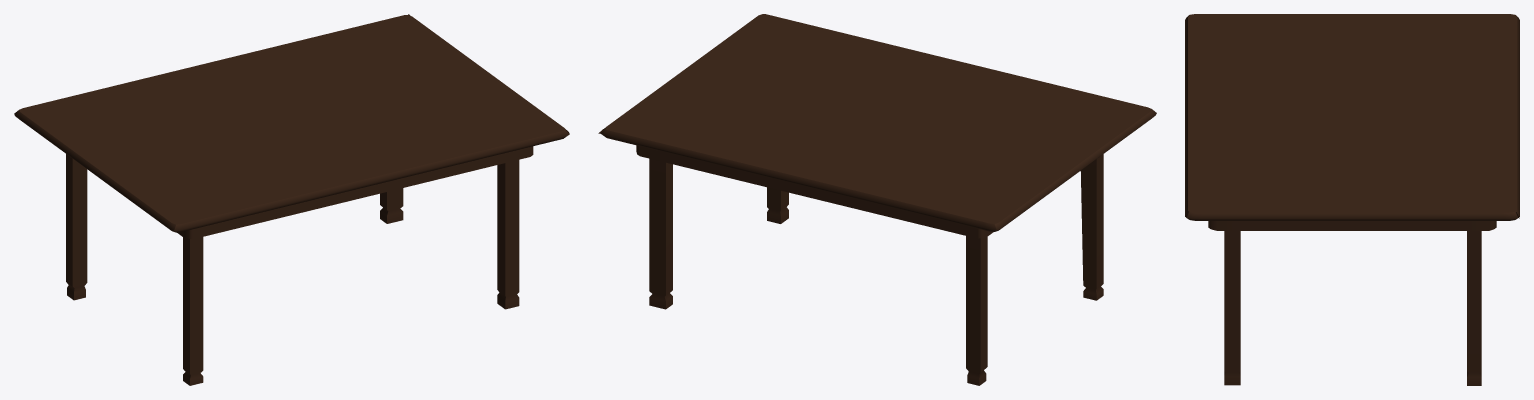
The model's file is diningTable.fbx.
3 views of the same model, side by side, from view 1: azimuth 30°, elevation 25°; view 2: azimuth 150°, elevation 25°; view 3: azimuth 270°, elevation 25° (orthographic). The views are drawn at different scales.
Visible parts, largest first — view 1: pCube1; view 2: pCube1; view 3: pCube1.
Part boxes in pixels (x1,y1,x2,y2): pCube1: (14,14,569,385); pCube1: (598,14,1156,385); pCube1: (1185,14,1519,385).
Bounding box in the file's own units: 14.11 × 6.13 × 9.87.
